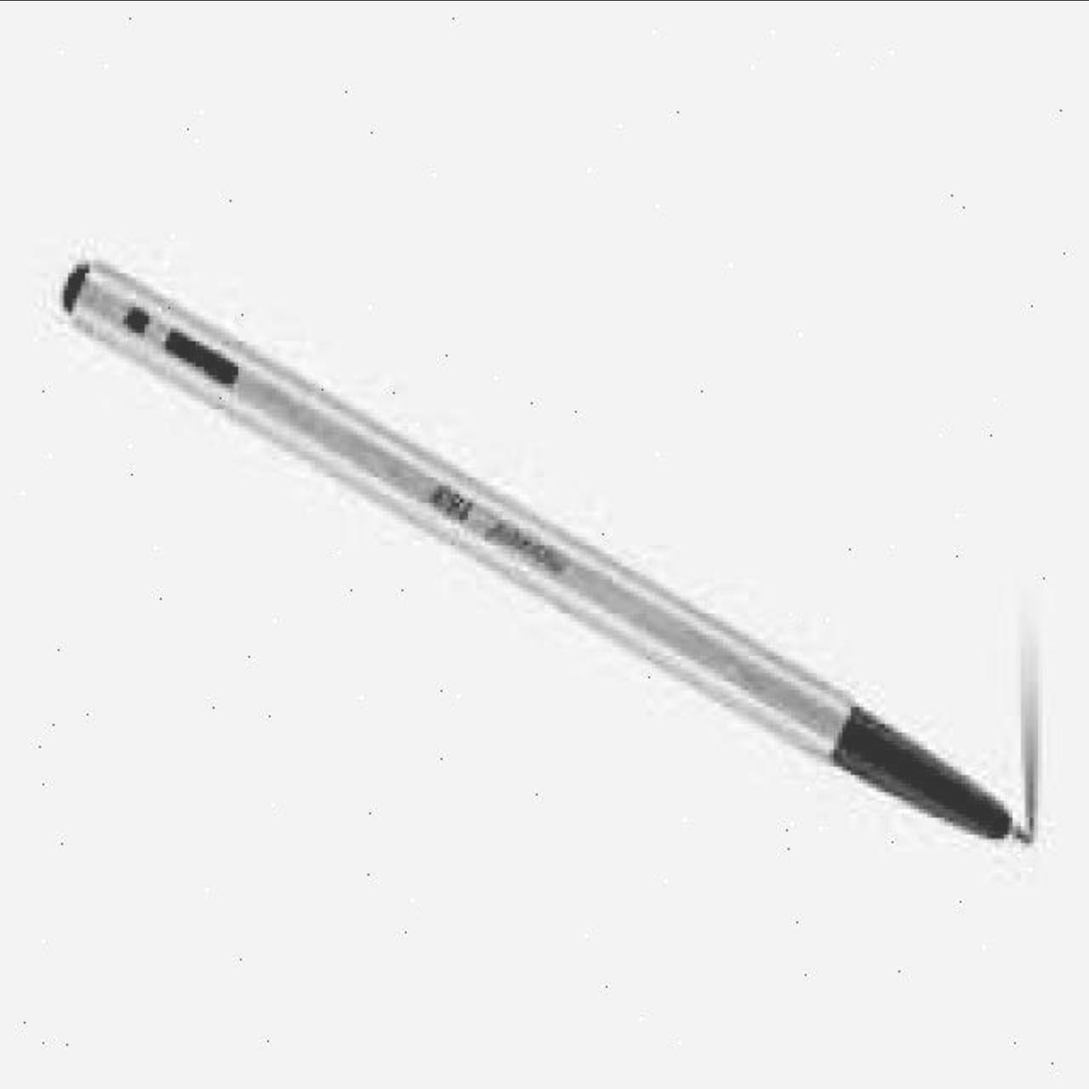pen: (60, 252, 1038, 847)
